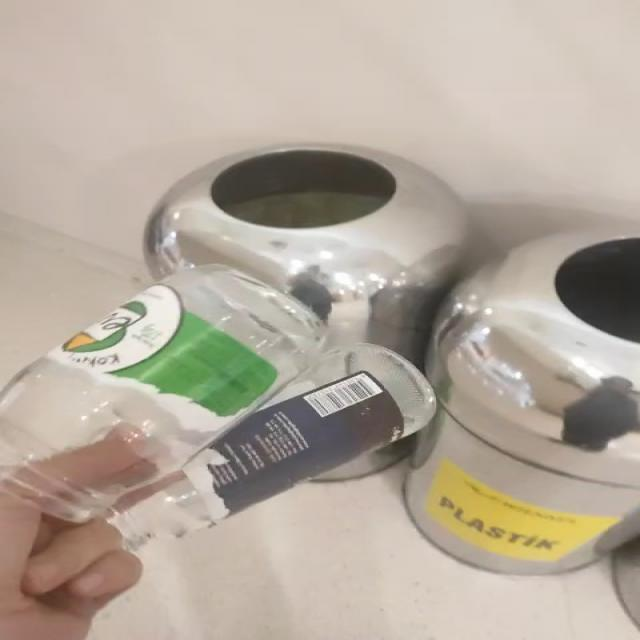Glass: (3, 265, 436, 548)
